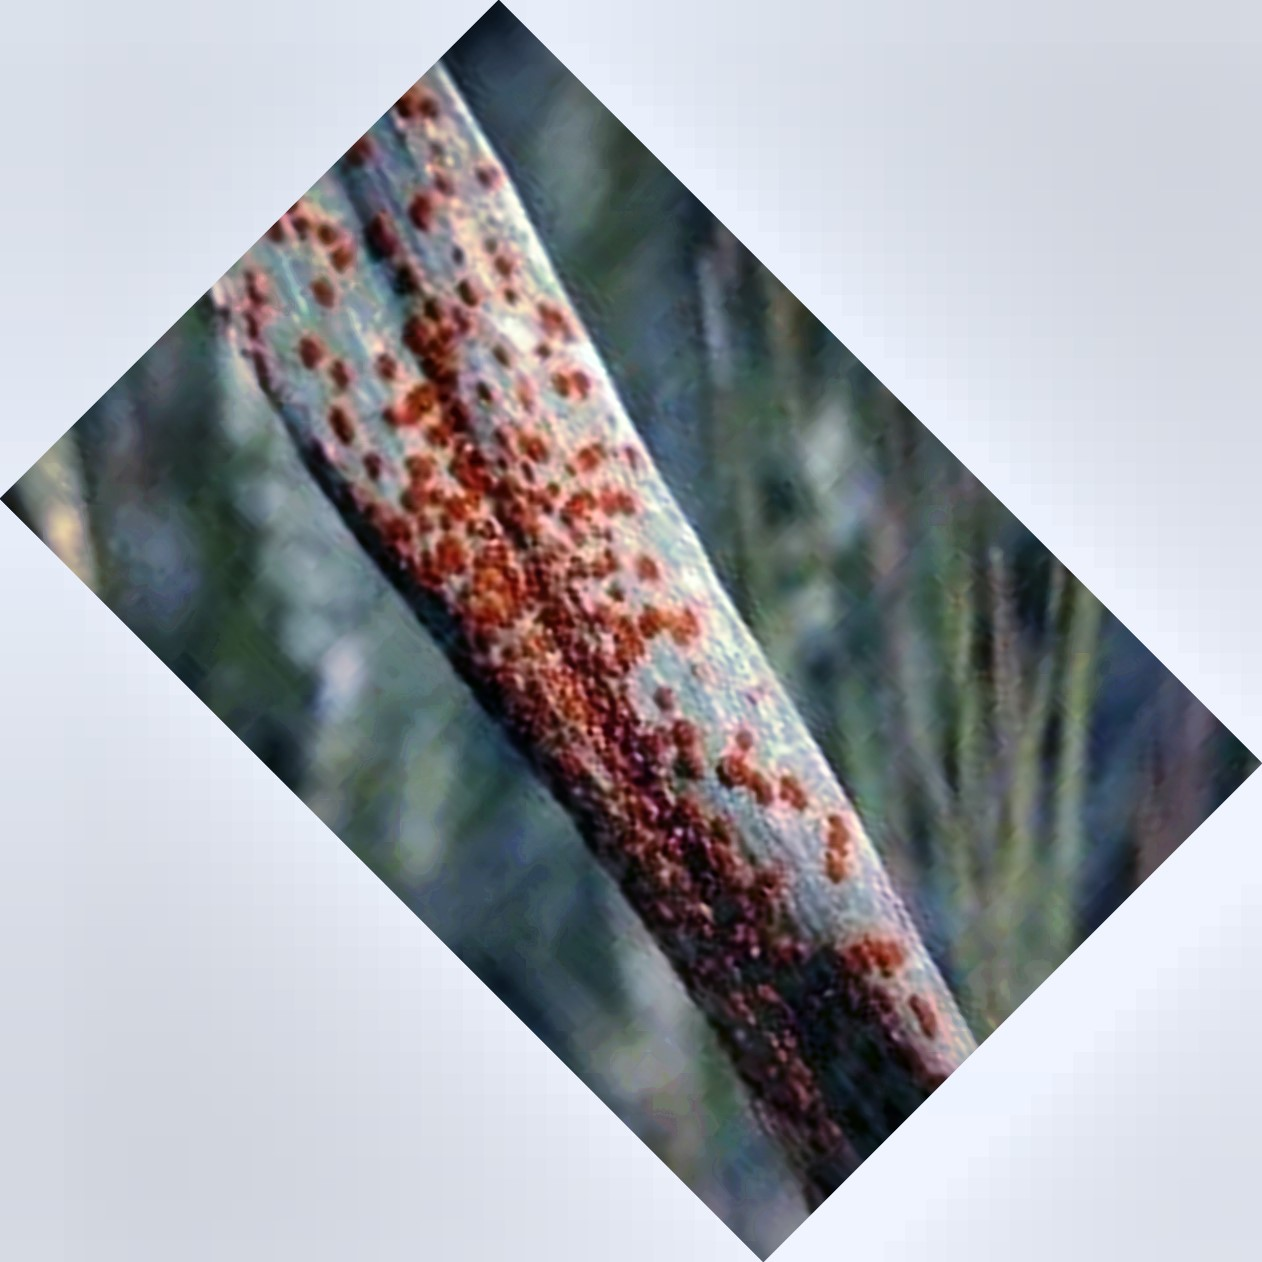Leaf Rust: (287, 205, 888, 1016)
